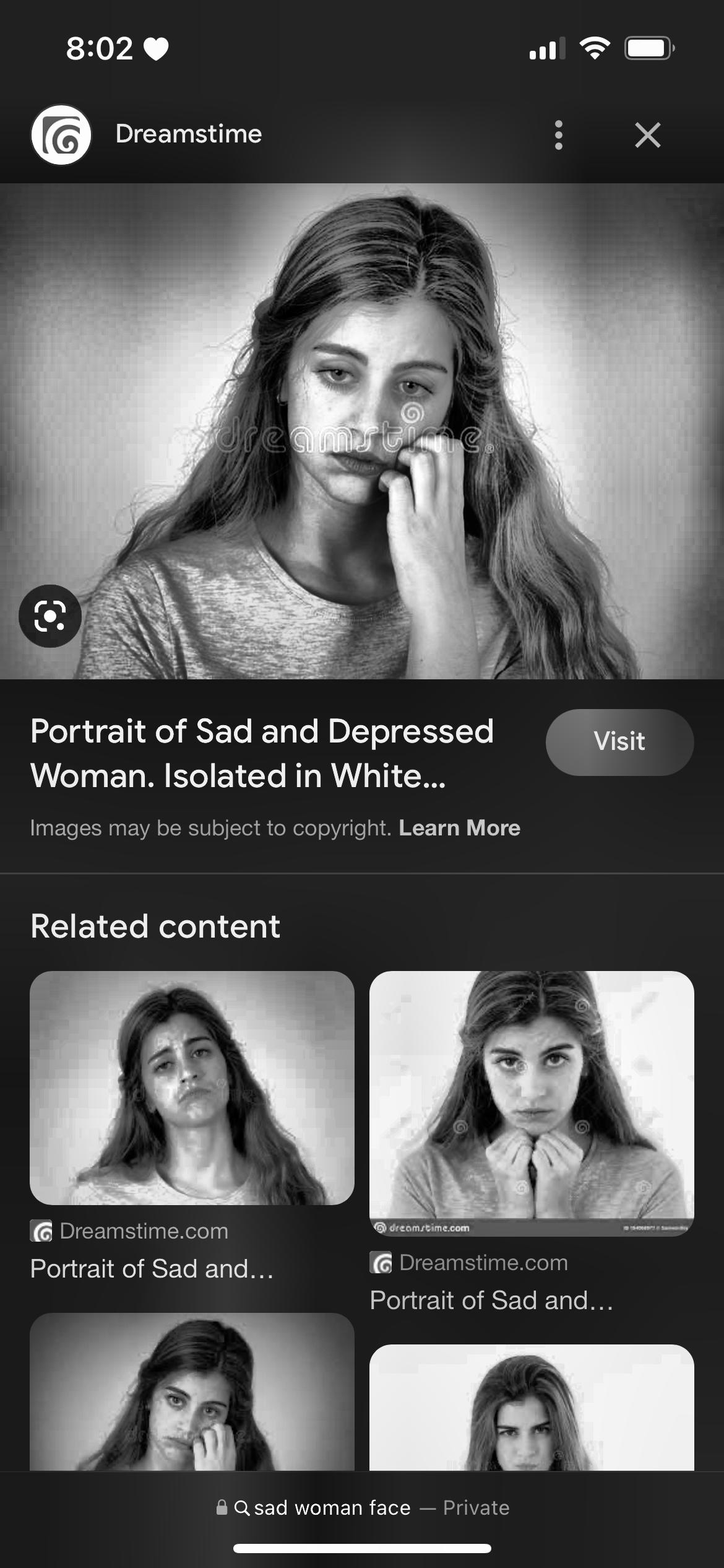sad: (274, 277, 485, 510)
